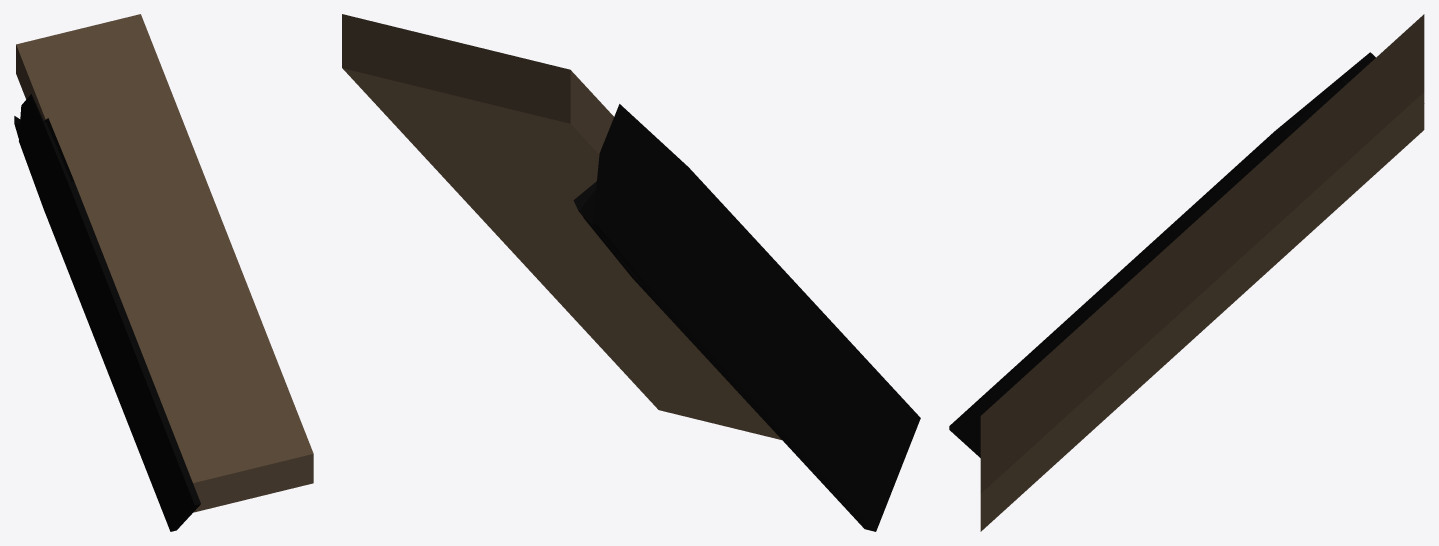
Rendered from dach_ortgang_l_kaputt.glb.
The picture shows the model from 3 angles, left to right: view 1: azimuth 30°, elevation 25°; view 2: azimuth 150°, elevation 25°; view 3: azimuth 270°, elevation 25°; orthographic projection. The views are drawn at different scales.
Visible parts, largest first — view 1: dach_ortgang_l_kaputt; view 2: dach_ortgang_l_kaputt; view 3: dach_ortgang_l_kaputt.
Boxes of the visible parts, x1,y1,x2,y2 form: dach_ortgang_l_kaputt: (14,14,313,531); dach_ortgang_l_kaputt: (342,14,920,531); dach_ortgang_l_kaputt: (949,14,1424,531).
Size of the model in its own units: 0.525 by 1.41 by 1.29.
